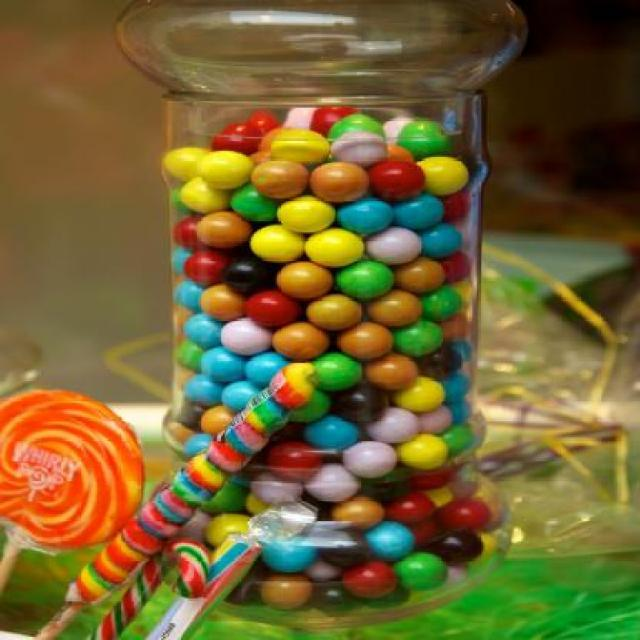Candy: (115, 94, 528, 608), (64, 360, 318, 606), (0, 388, 148, 548), (82, 535, 212, 640), (148, 533, 266, 639)
